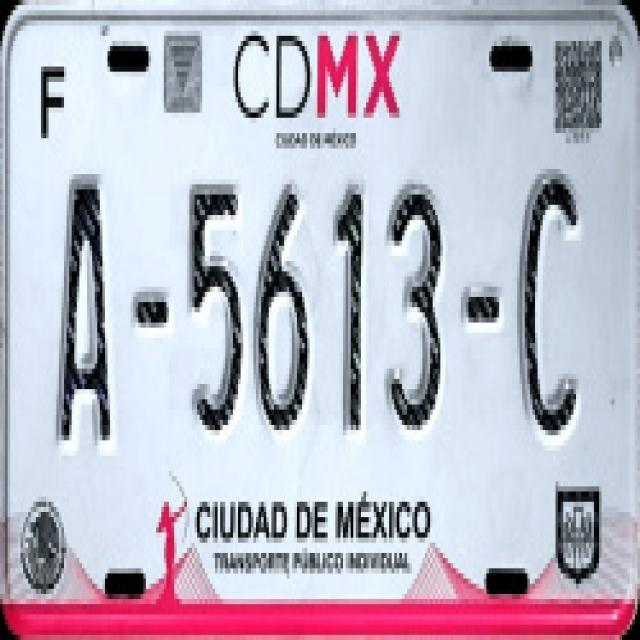placa: (9, 148, 635, 455)
